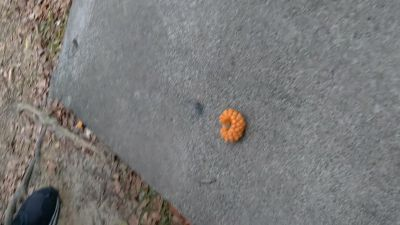eggs: (218, 108, 248, 145)
